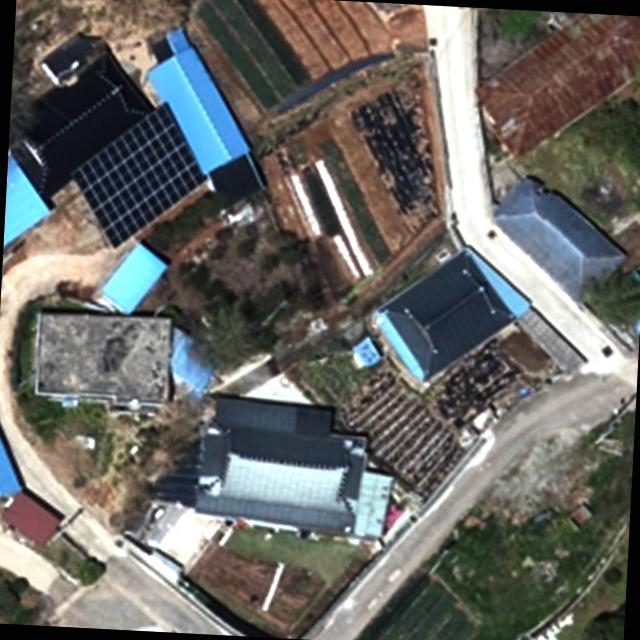solar: (64, 95, 214, 254)
